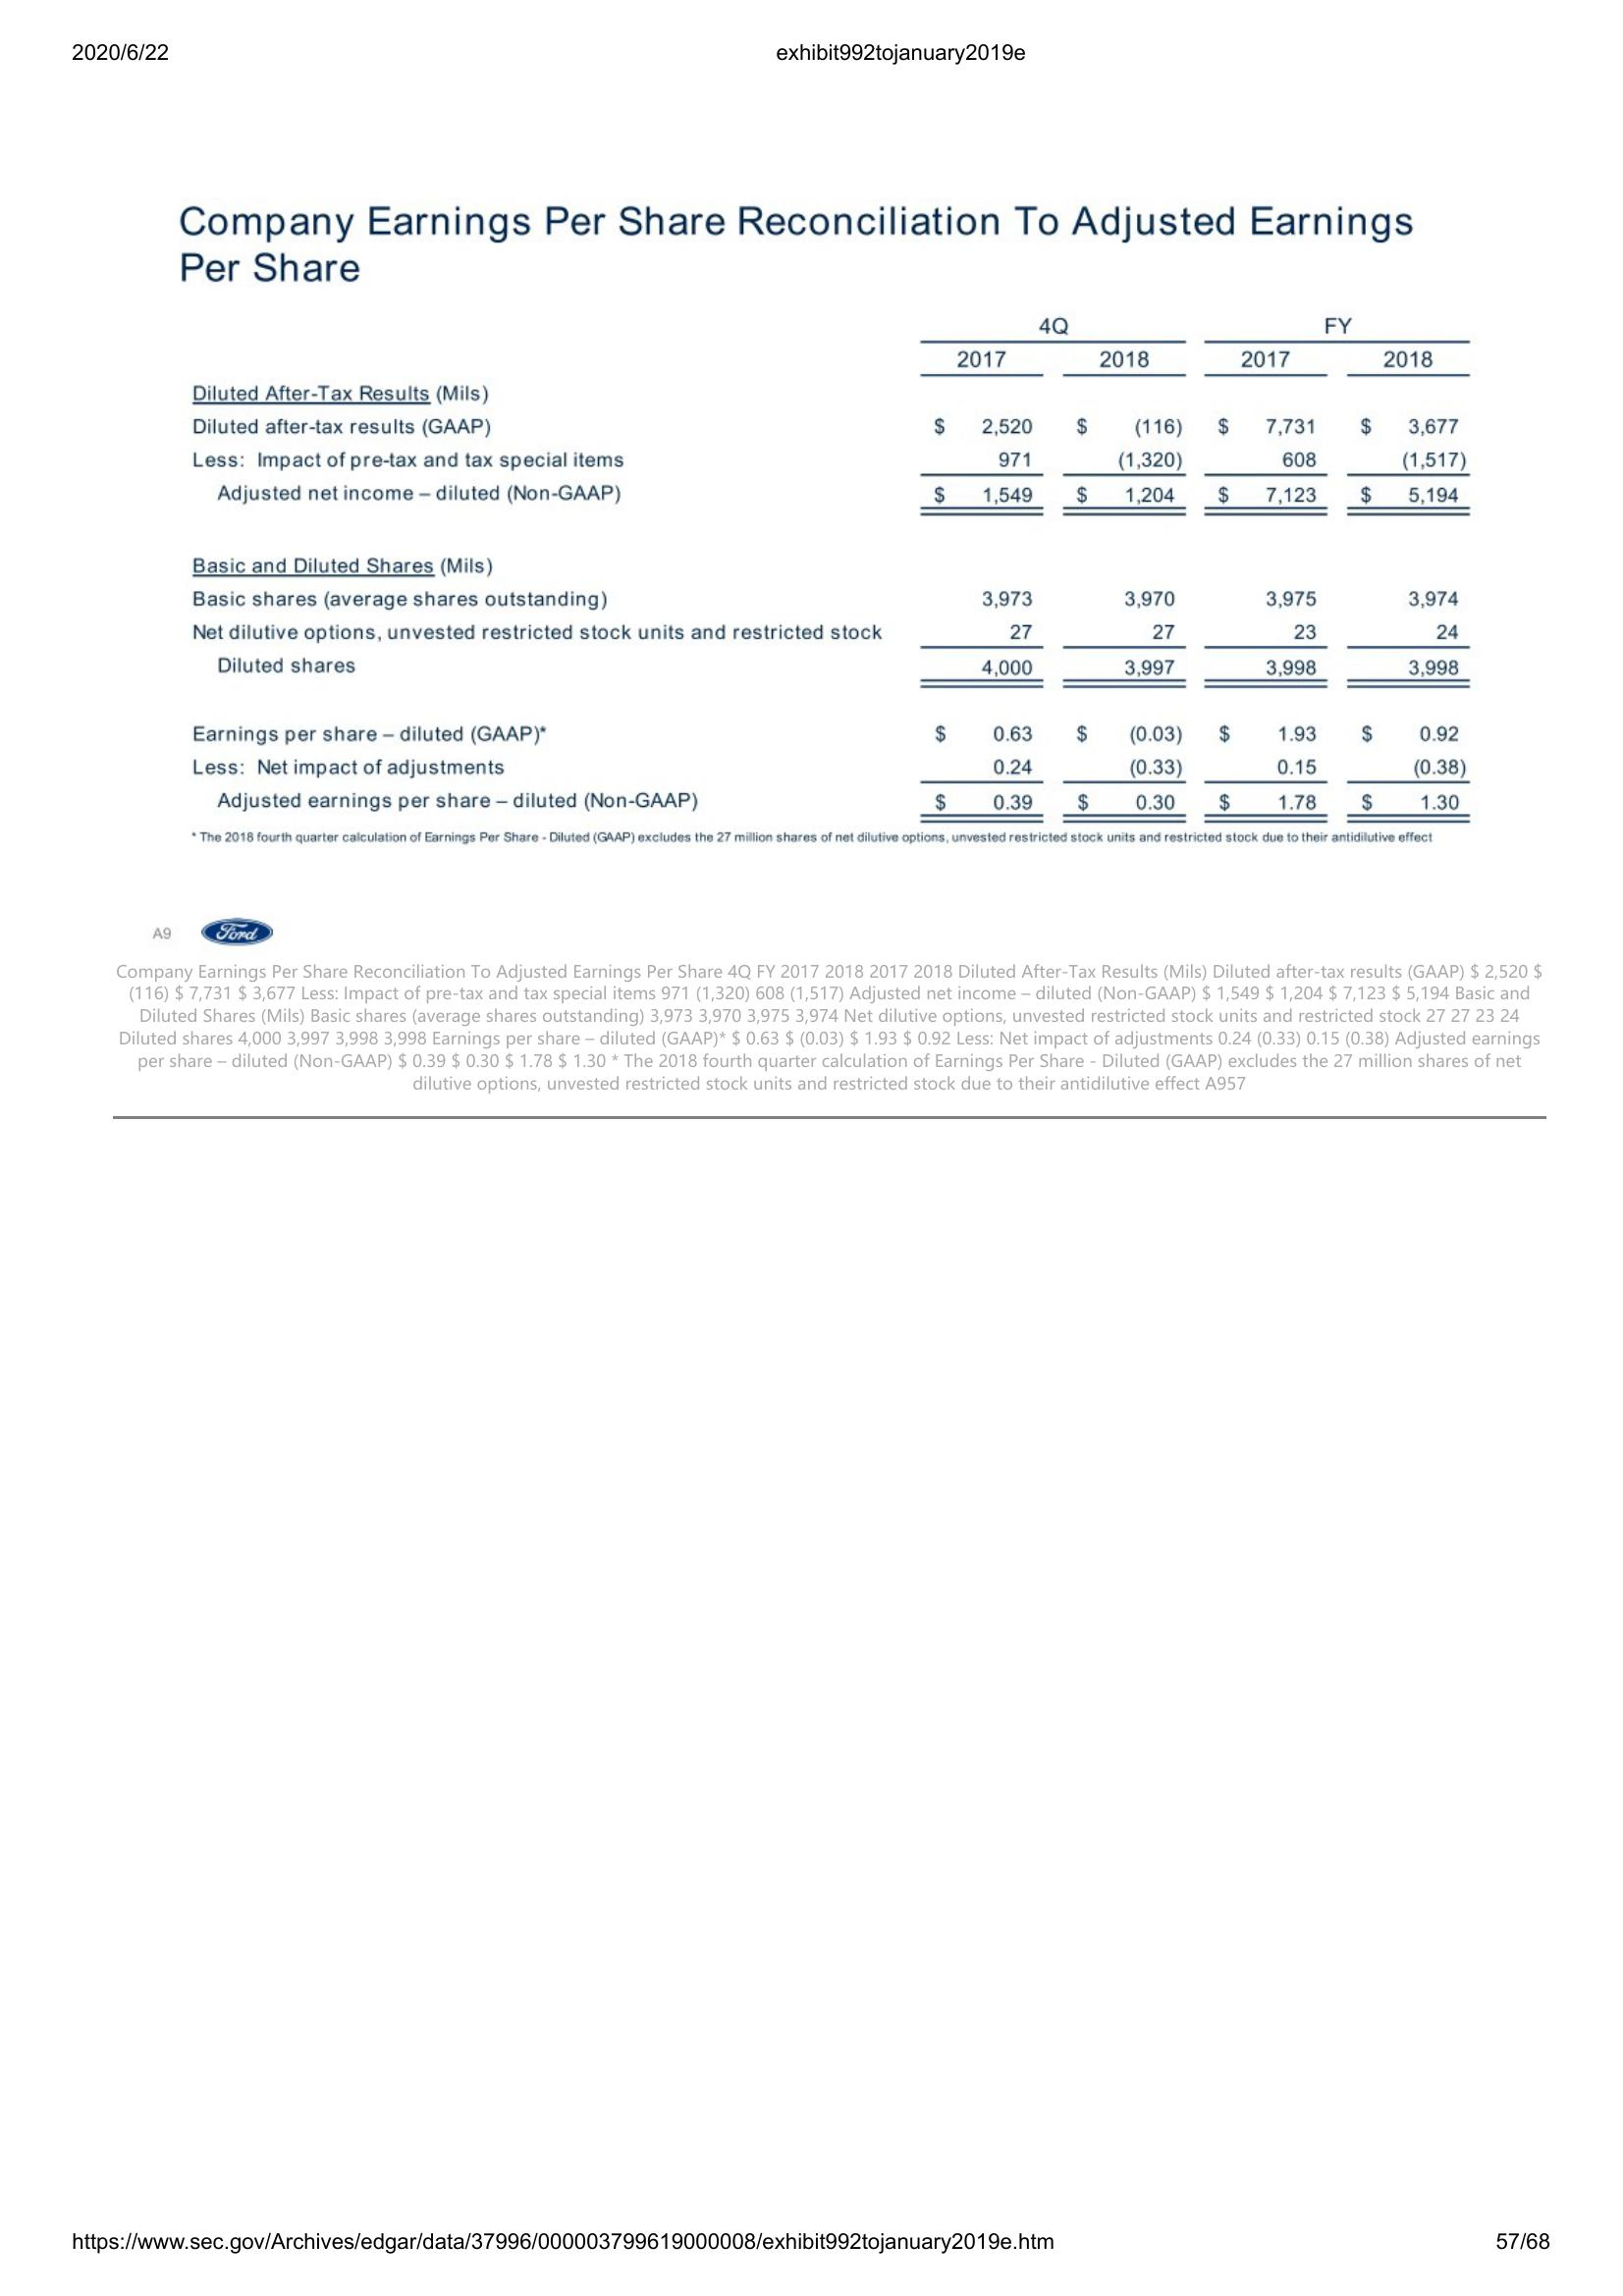table: (181, 297, 1481, 850)
